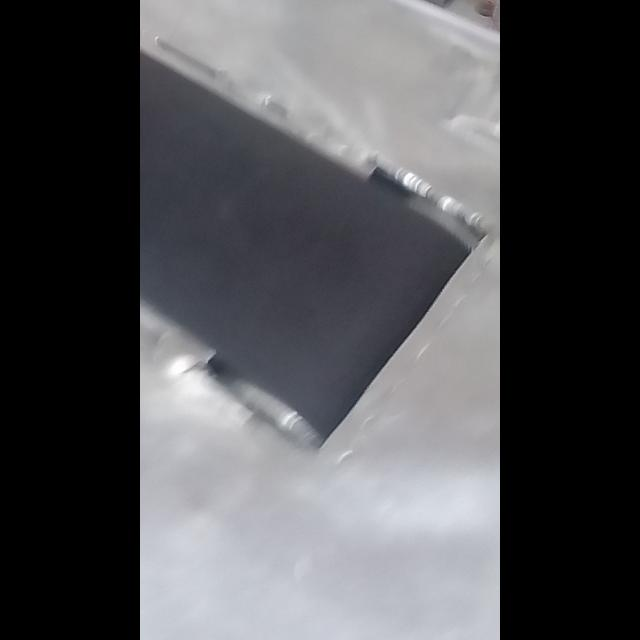redBox: (140, 0, 146, 162)
